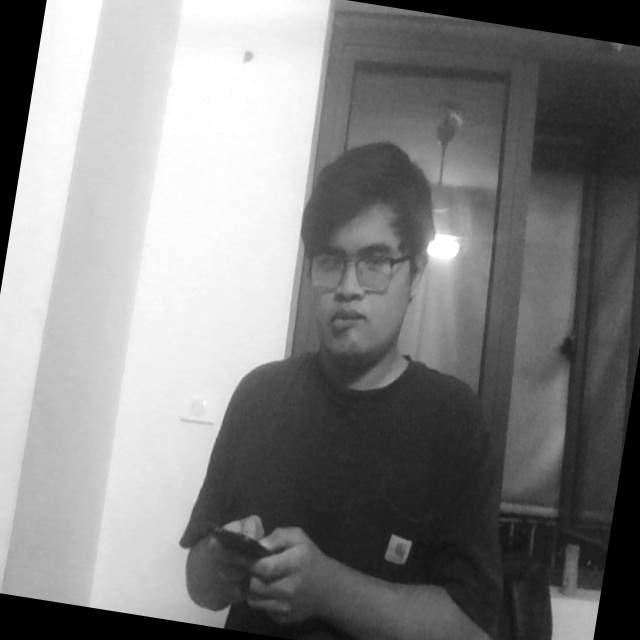phone: (195, 512, 308, 604)
